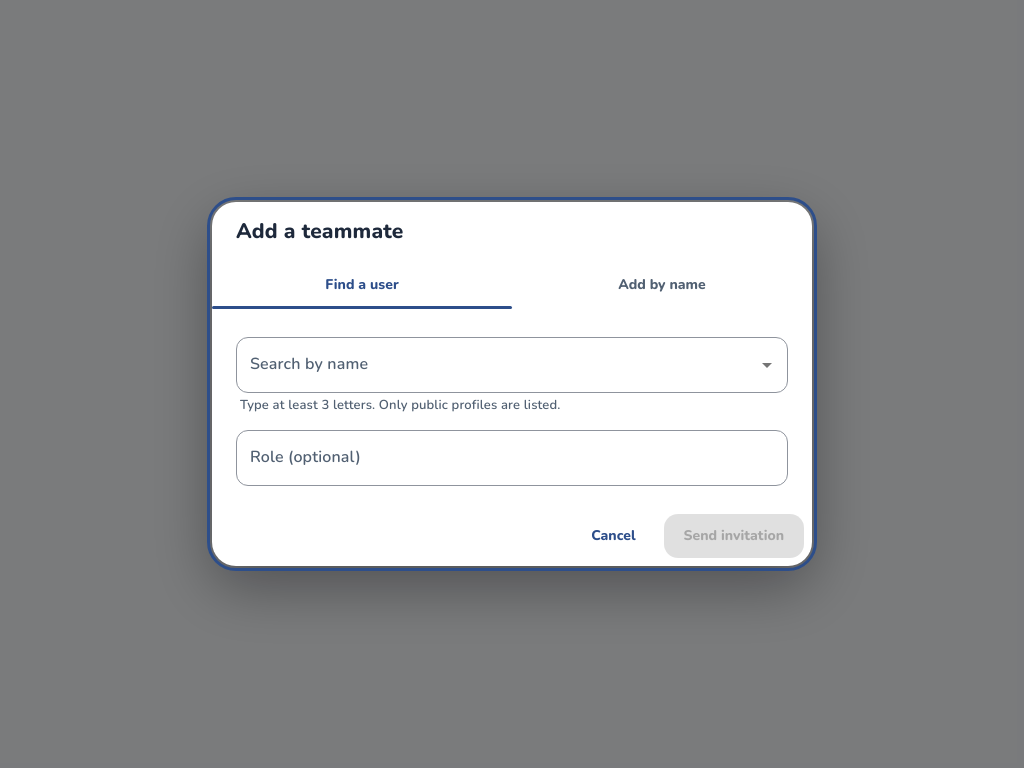
adding a name › shows the field error the action names, on that field, and keeps the dialog
The image size is (1024, 768).
Click the tab "Add by name" at (662, 285), box [512, 261, 812, 309]
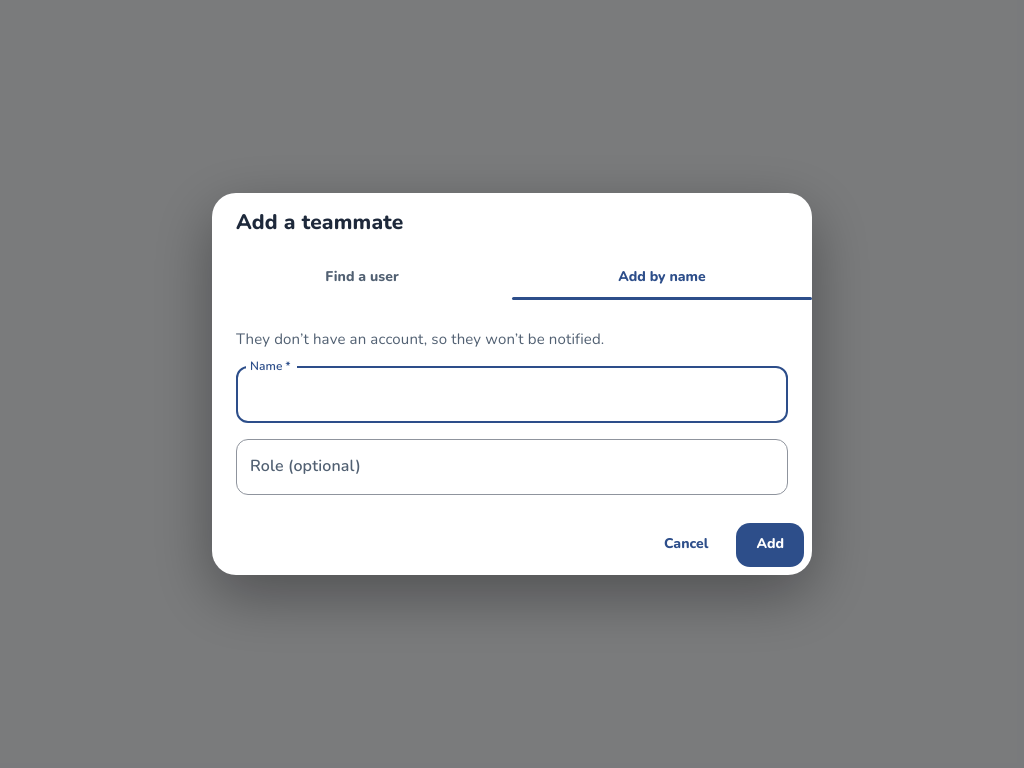
Click the button "Add" at (770, 545), box [736, 523, 804, 567]
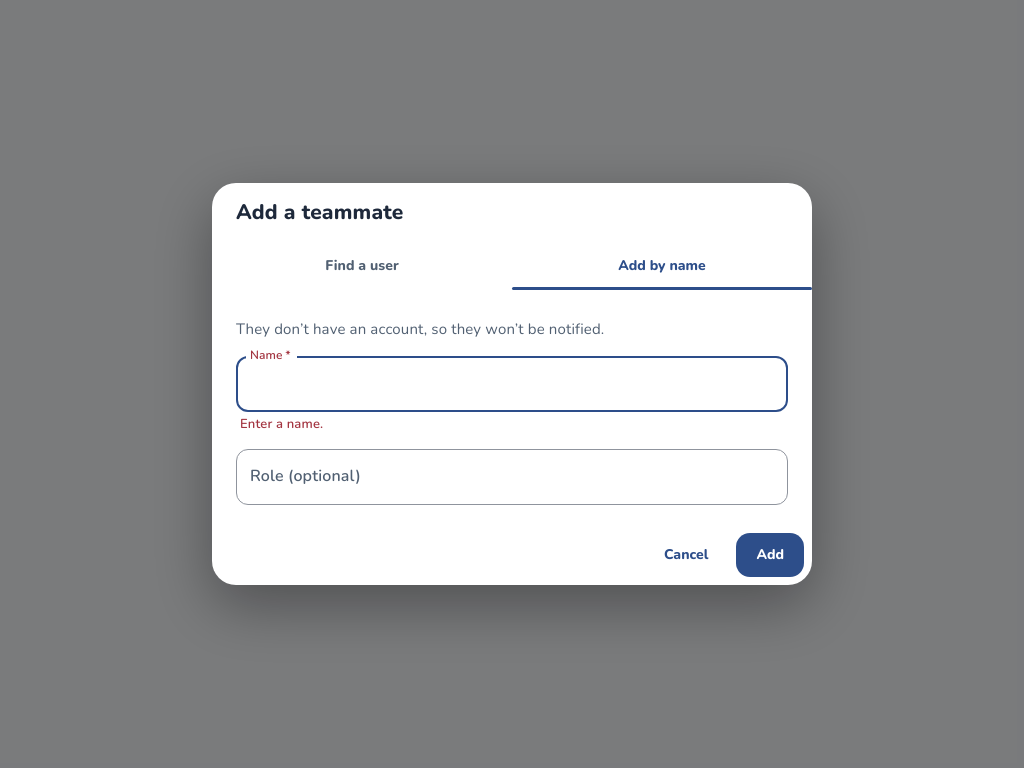
Expected: the text "Enter a name." is shown, [240, 415, 323, 433]
